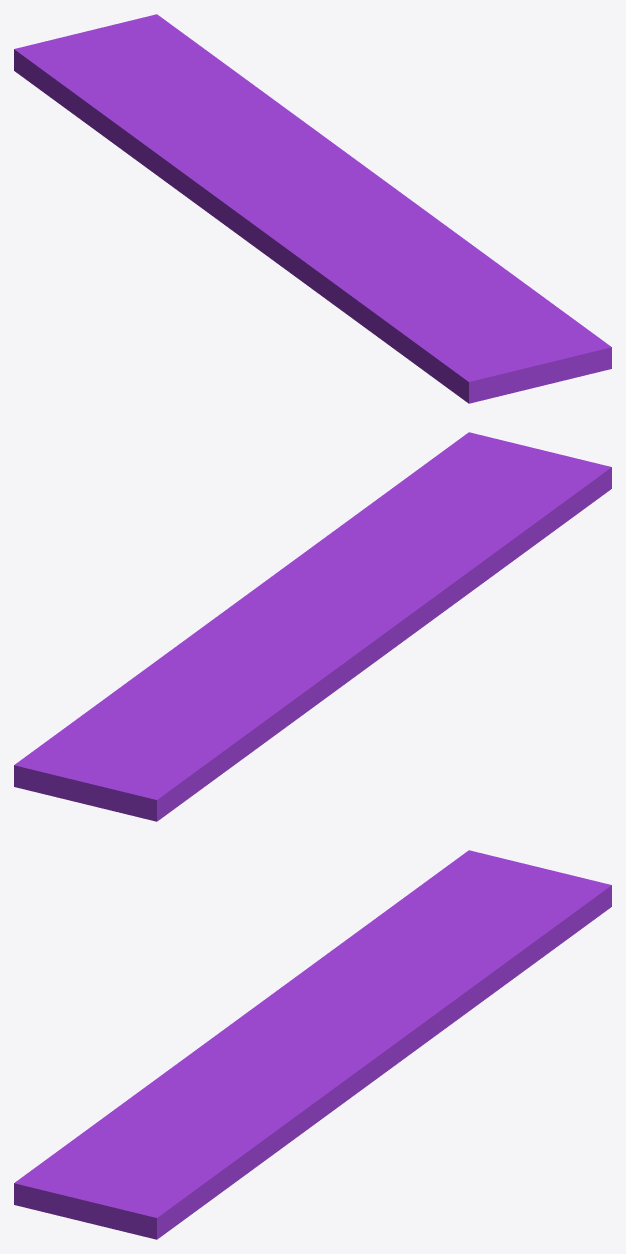
File: StairsStep_62_chunks.fbx
3 views of the same model, one above another, from view 1: azimuth 30°, elevation 25°; view 2: azimuth 150°, elevation 25°; view 3: azimuth 330°, elevation 25° (orthographic).
Parts seen in each view (by area): view 1: StairsStep_62_5, StairsStep_62_6, StairsStep_62_2, StairsStep_62_8, StairsStep_62_0, StairsStep_62_1, StairsStep_62_9, StairsStep_62_3, StairsStep_62_4; view 2: StairsStep_62_6, StairsStep_62_5, StairsStep_62_2, StairsStep_62_8, StairsStep_62_0, StairsStep_62_1, StairsStep_62_9, StairsStep_62_3, StairsStep_62_4; view 3: StairsStep_62_5, StairsStep_62_6, StairsStep_62_0, StairsStep_62_2, StairsStep_62_8, StairsStep_62_9, StairsStep_62_1, StairsStep_62_3, StairsStep_62_7.
Part boxes in pixels (box(x1,y1,x2,y2)): StairsStep_62_5: box(349, 268, 611, 403); StairsStep_62_6: box(14, 14, 250, 160); StairsStep_62_2: box(230, 201, 412, 293); StairsStep_62_8: box(136, 130, 288, 232); StairsStep_62_0: box(324, 150, 512, 274); StairsStep_62_1: box(271, 120, 342, 201); StairsStep_62_9: box(214, 83, 300, 153); StairsStep_62_3: box(387, 226, 514, 276); StairsStep_62_4: box(318, 292, 364, 327); StairsStep_62_6: box(14, 686, 280, 821); StairsStep_62_5: box(372, 432, 611, 564); StairsStep_62_2: box(314, 544, 490, 658); StairsStep_62_8: box(223, 629, 378, 730); StairsStep_62_0: box(200, 504, 370, 628); StairsStep_62_1: box(158, 610, 340, 659); StairsStep_62_9: box(108, 647, 233, 696); StairsStep_62_3: box(333, 503, 406, 574); StairsStep_62_4: box(461, 554, 507, 598); StairsStep_62_5: box(14, 1095, 253, 1239); StairsStep_62_6: box(346, 850, 611, 979); StairsStep_62_0: box(248, 1021, 436, 1172); StairsStep_62_2: box(135, 1009, 311, 1105); StairsStep_62_8: box(252, 940, 403, 1020); StairsStep_62_9: box(392, 953, 517, 1010); StairsStep_62_1: box(285, 990, 467, 1039); StairsStep_62_3: box(219, 1075, 292, 1164); StairsStep_62_7: box(434, 976, 511, 1036).
Size of the model in its own units: 200 by 28.98 by 1102.
